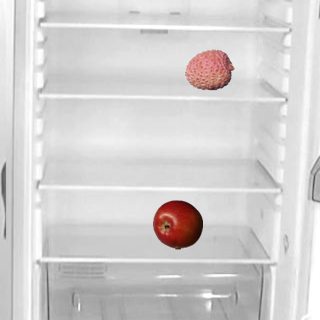Apple Braeburn: (152, 199, 202, 249)
Lychee: (184, 44, 234, 94)
